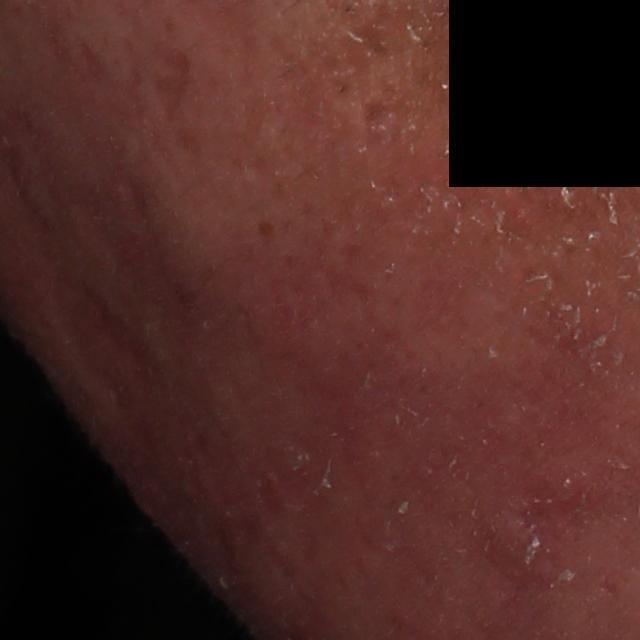atrophic_scar: (55, 279, 248, 523), (119, 162, 182, 299), (145, 45, 210, 164)
